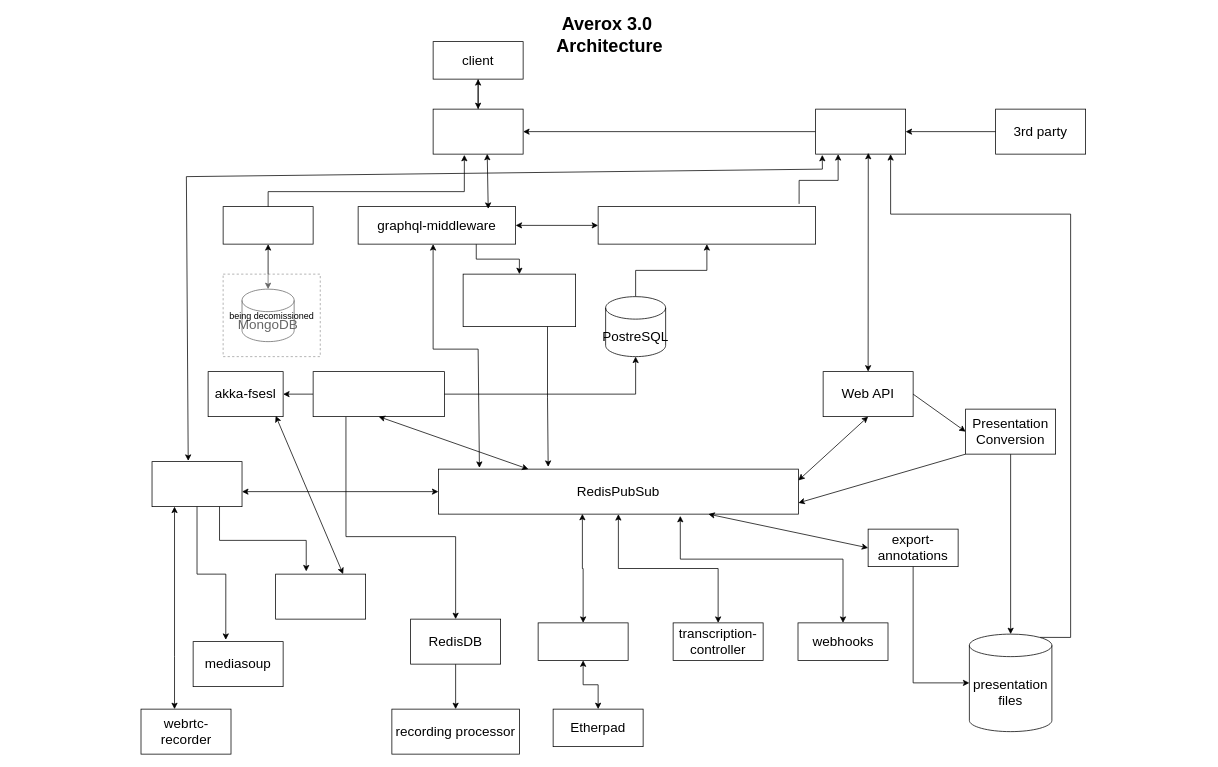
The diagram is 1218 pixels wide and 767 high, and some of its shapes have lost their labels. The shapes that lost their labels are listed below. From the top down, each one's centre as x and y in pixels, then its label:
At [477,131]: "HAproxy".
At [860,131]: "NginX".
At [267,225]: "avx-html5".
At [706,225]: "graphql-server (Hasura)".
At [519,300]: "graphql-actions".
At [378,394]: "akka-apps".
At [196,484]: "webrtc-sfu".
At [320,596]: "FreeSWITCH".
At [582,641]: "avx-pads".
